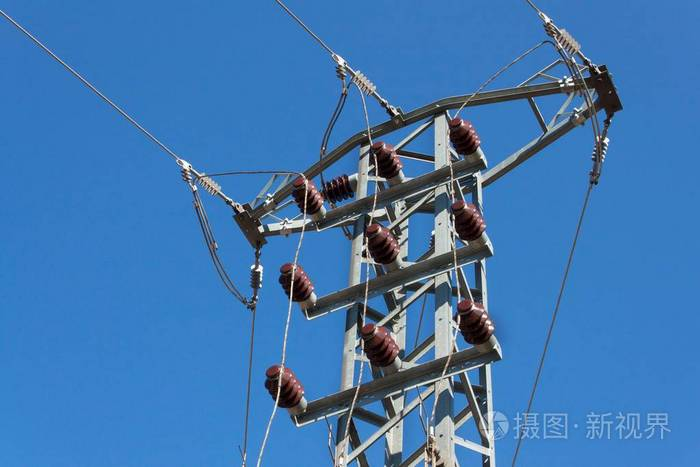insulator: (455, 304, 497, 345), (265, 371, 309, 407), (364, 228, 401, 266), (362, 330, 403, 364), (453, 206, 491, 241), (280, 268, 314, 304), (446, 122, 483, 155), (370, 145, 409, 176), (292, 186, 325, 214), (349, 70, 380, 96), (557, 31, 581, 55), (590, 135, 609, 164), (198, 175, 223, 197)
